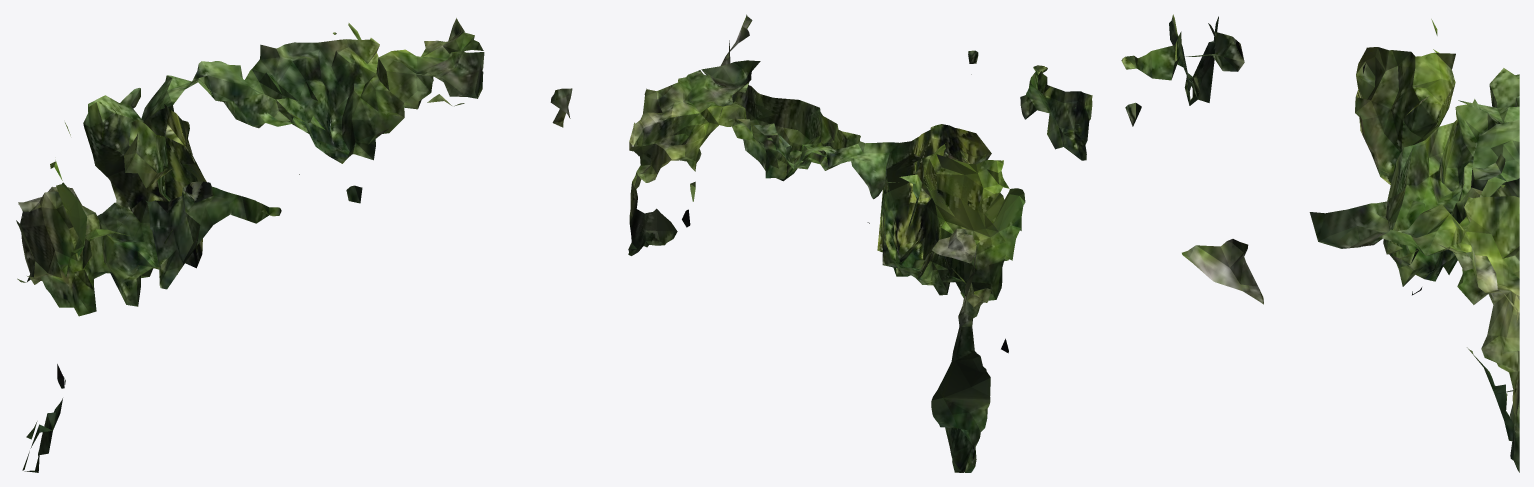
3 views of the same model, side by side, from view 1: azimuth 30°, elevation 25°; view 2: azimuth 150°, elevation 25°; view 3: azimuth 270°, elevation 25° (orthographic). The views are drawn at different scales.
Bounding box in the file's own units: 26.11 × 21.27 × 18.39.
2 materials, 2 textured.
